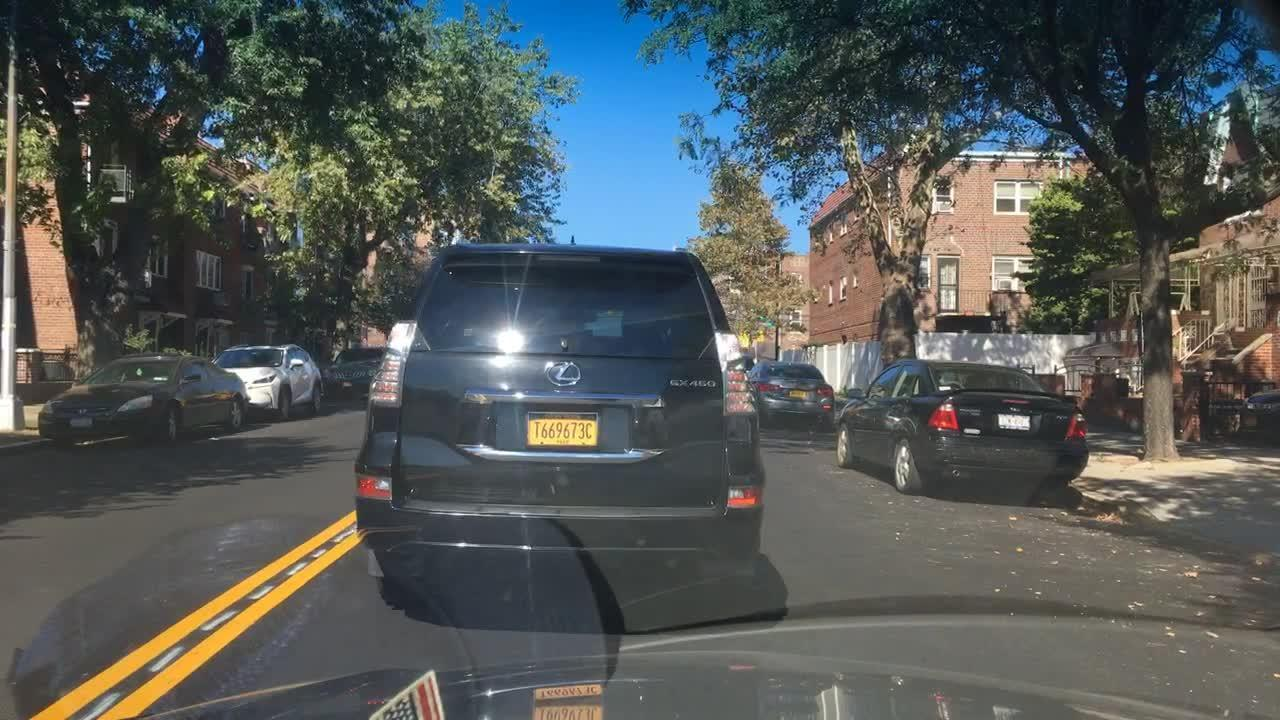lexus: (541, 358, 591, 394)
